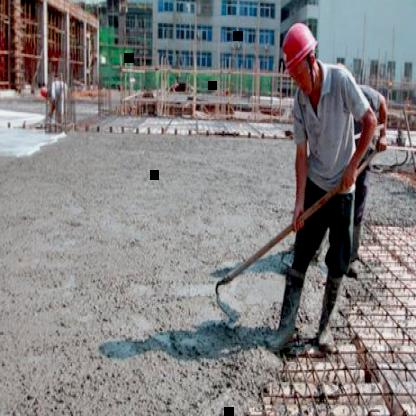helmet: (278, 12, 322, 81)
